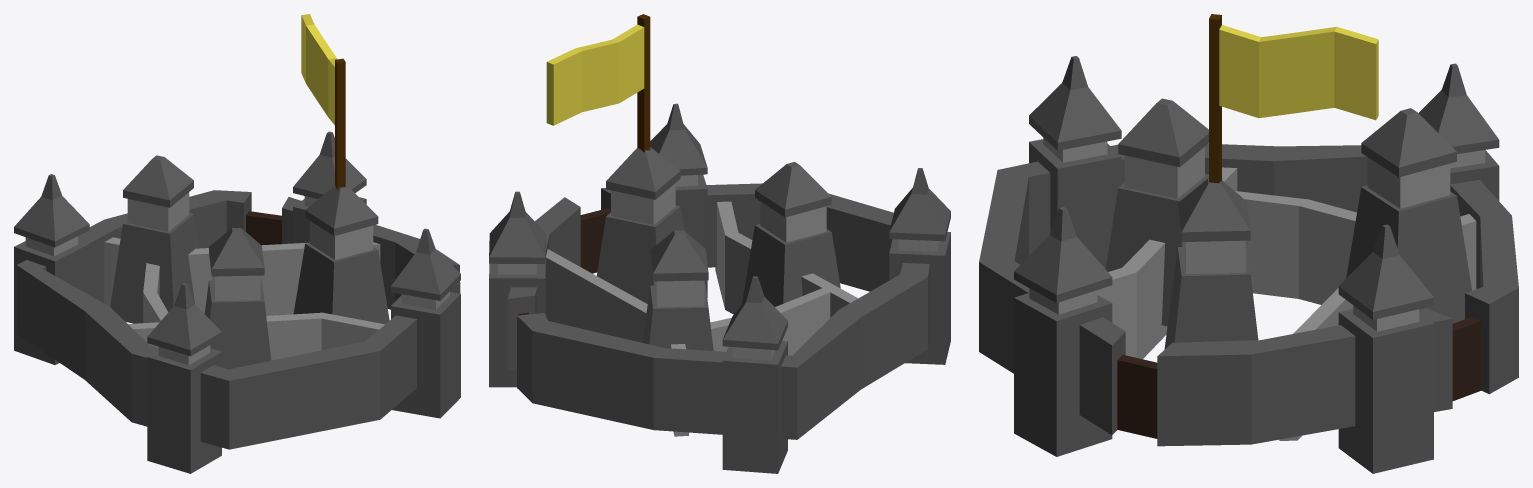
The model's file is SM_TilePlayerCastle.fbx.
3 views of the same model, side by side, from view 1: azimuth 30°, elevation 25°; view 2: azimuth 150°, elevation 25°; view 3: azimuth 270°, elevation 25° (orthographic). The views are drawn at different scales.
Parts seen in each view (by area): view 1: TilePlayerCastle, TilePlayerCastleFlag; view 2: TilePlayerCastle, TilePlayerCastleFlag; view 3: TilePlayerCastle, TilePlayerCastleFlag.
Part boxes in pixels (x1,y1,x2,y2): TilePlayerCastle: (14, 131, 460, 473); TilePlayerCastleFlag: (301, 14, 345, 189); TilePlayerCastle: (489, 103, 950, 473); TilePlayerCastleFlag: (546, 14, 650, 152); TilePlayerCastle: (979, 56, 1518, 473); TilePlayerCastleFlag: (1209, 14, 1378, 183).
Bounding box in the file's own units: 378 × 329 × 400.
